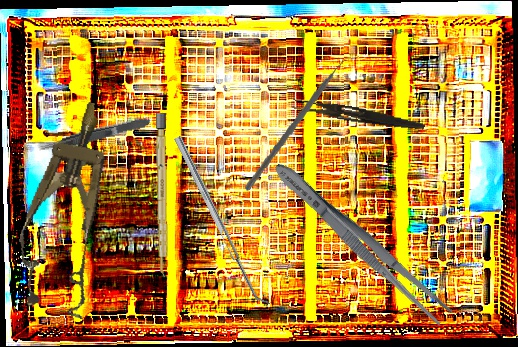Chopper: (244, 47, 360, 200)
Dressing Forceps: (266, 155, 457, 330), (291, 98, 426, 132)
Scalpel Handle: (155, 112, 169, 278)
Spatula Surgical: (174, 132, 271, 310)
Speculum: (5, 93, 131, 320)
Tissue Forceps: (36, 115, 153, 155)
